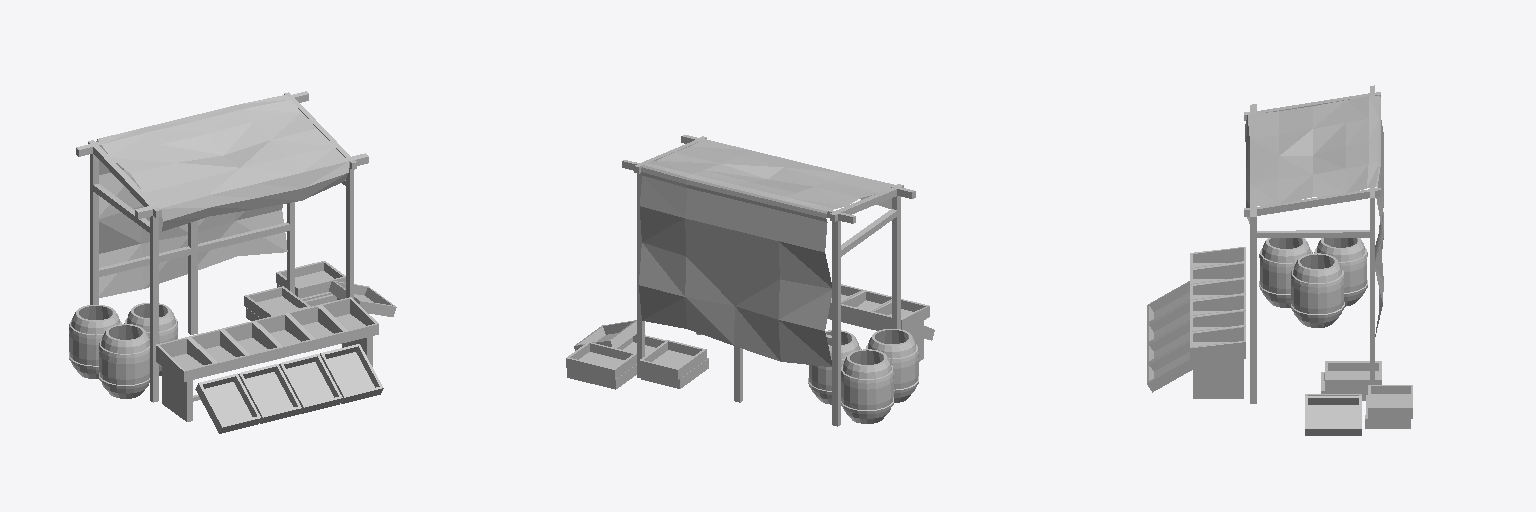
Rendered from trade.obj.
3 views of the same model, side by side, from view 1: azimuth 30°, elevation 25°; view 2: azimuth 150°, elevation 25°; view 3: azimuth 270°, elevation 25° (orthographic).
Parts seen in each view (by area): view 1: Tent; view 2: Tent; view 3: Tent.
Boxes of the visible parts, box(x1,y1,x2,y2) form: Tent: box(69, 91, 396, 433); Tent: box(566, 135, 934, 426); Tent: box(1147, 85, 1412, 435).
Bounding box in the file's own units: 4.01 × 2.68 × 3.02.